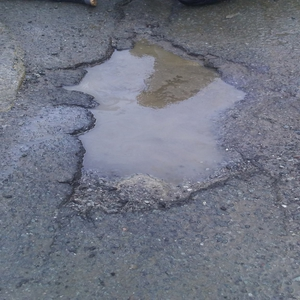pothole: (62, 30, 255, 219)
